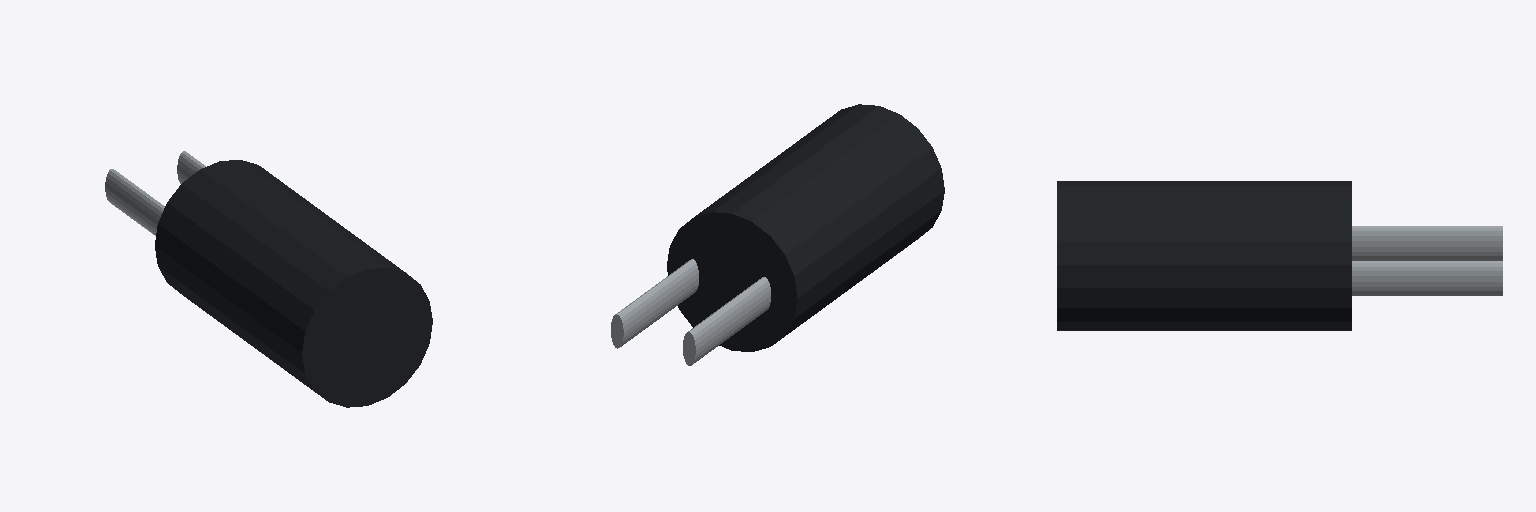
Rendered from tinker.obj.
The picture shows the model from 3 angles: view 1: azimuth 30°, elevation 25°; view 2: azimuth 150°, elevation 25°; view 3: azimuth 270°, elevation 25°; orthographic projection.
Parts seen in each view (by area): view 1: obj_0; view 2: obj_0; view 3: obj_0.
Boxes of the visible parts, x1,y1,x2,y2 form: obj_0: [105, 151, 432, 407]; obj_0: [611, 104, 944, 365]; obj_0: [1057, 181, 1502, 330].
Bounding box in the file's own units: 20 × 20 × 59.